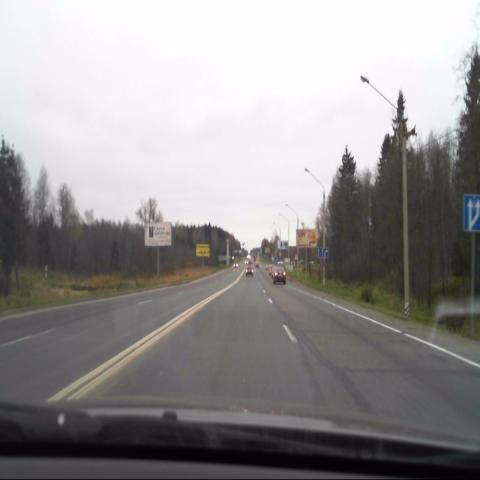5_15_3: (462, 193, 480, 232)
